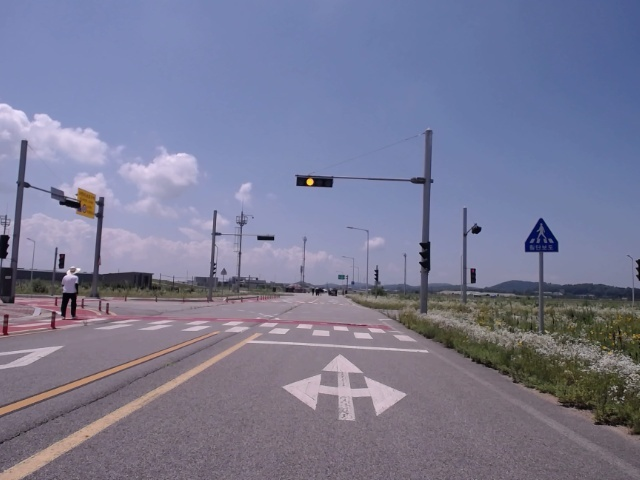orange_4: (297, 176, 332, 186)
